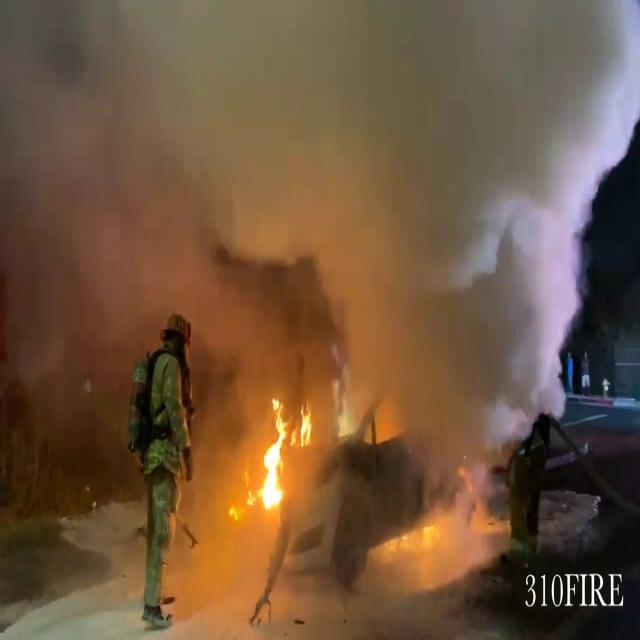Fire: (236, 392, 310, 515)
Smoke: (1, 1, 634, 441)
